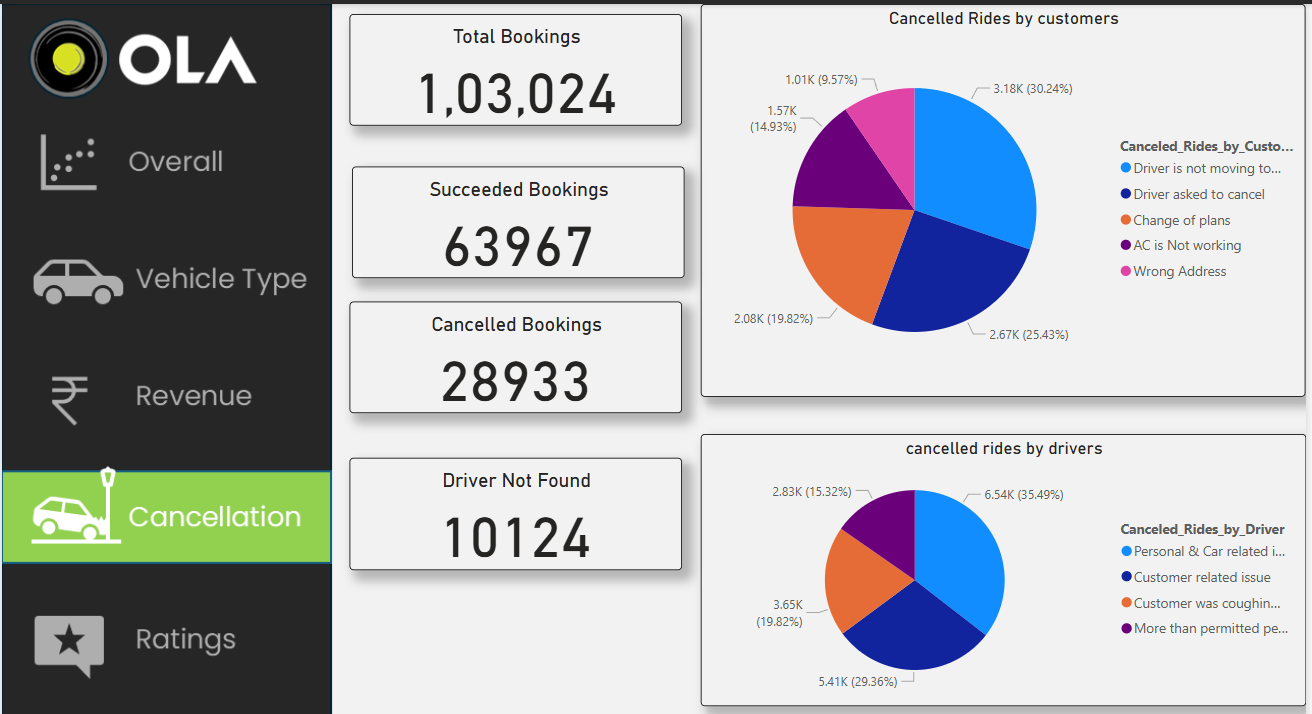

The dashboard page shown, as its layout file describes it:
{"tool":"powerbi","page":{"name":"Cancellation","canvas":[1280,720],"ordinal":3},"visuals":[{"type":"pieChart","title":"Cancelled Rides by customers","fields":{"Category":["July (2).Canceled_Rides_by_Customer"],"Y":["CountNonNull(July (2).Canceled_Rides_by_Customer)"]},"box":[686.3,0,593.7,385.3],"z":0},{"type":"pieChart","title":"cancelled rides by drivers","fields":{"Category":["July (2).Canceled_Rides_by_Driver"],"Y":["CountNonNull(July (2).Canceled_Rides_by_Driver)"]},"box":[686.1,422.6,594.2,267.6],"z":1000},{"type":"card","title":"Total Bookings","fields":{"Values":["CountNonNull(July (2).Booking_ID)"]},"box":[341.7,9.6,326.6,109.8],"z":2000},{"type":"card","title":"Succeeded Bookings","fields":{"Values":["CountNonNull(July (2).Booking_ID)"]},"box":[344.1,159,326.3,109.7],"z":3000},{"type":"card","title":"Cancelled Bookings","fields":{"Values":["CountNonNull(July (2).Booking_ID)"]},"box":[341.7,292.3,326.6,109.8],"z":4000},{"type":"card","title":"Cancelled Bookings","fields":{"Values":["CountNonNull(July (2).Booking_ID)"]},"box":[341.7,447.3,326.6,109.8],"z":4001}]}

Visuals, with their boxes on the page's 1280x720 design canvas (x1, y1, x2, y2). These are canvas units, not pixel positions in the 1312x714 screenshot, which may show the page scaled, cropped or inside an application window:
"Cancelled Rides by customers" pieChart: (x1=686, y1=0, x2=1280, y2=385)
"cancelled rides by drivers" pieChart: (x1=686, y1=423, x2=1280, y2=690)
"Total Bookings" card: (x1=342, y1=10, x2=668, y2=119)
"Succeeded Bookings" card: (x1=344, y1=159, x2=670, y2=269)
"Cancelled Bookings" card: (x1=342, y1=292, x2=668, y2=402)
"Cancelled Bookings" card: (x1=342, y1=447, x2=668, y2=557)
